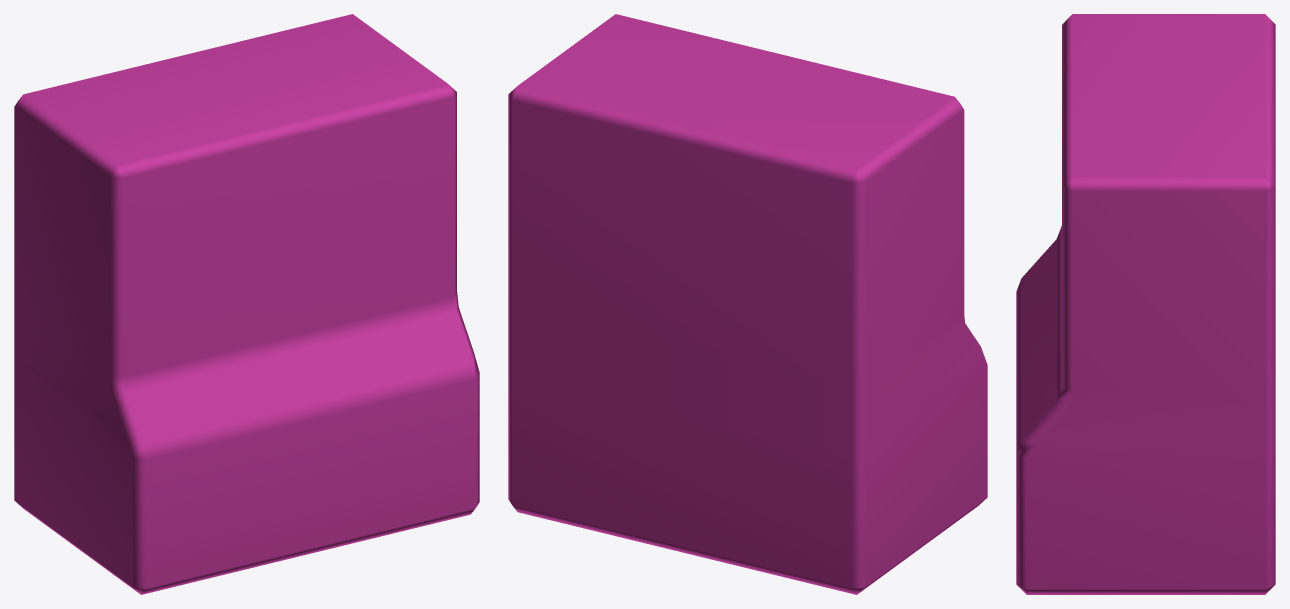
Rendered from OBS0110038.fbx.
3 renders of one model, left to right at view 1: azimuth 30°, elevation 25°; view 2: azimuth 150°, elevation 25°; view 3: azimuth 270°, elevation 25°, orthographic. The views are drawn at different scales.
Parts seen in each view (by area): view 1: smOBS0110038; view 2: smOBS0110038; view 3: smOBS0110038.
Part boxes in pixels (bbox=[...]): smOBS0110038: bbox=[14, 14, 479, 594]; smOBS0110038: bbox=[508, 14, 987, 594]; smOBS0110038: bbox=[1016, 14, 1275, 594].
Size of the model in its own units: 144 by 164 by 92.28.
Materials: 1 (1 with a texture image).
